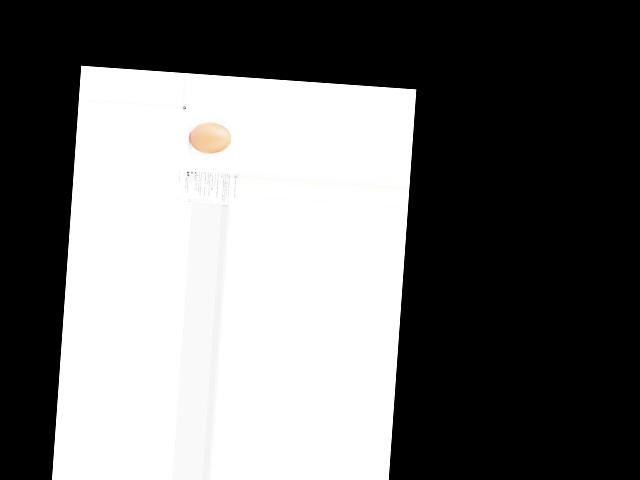egg: (188, 121, 231, 155)
